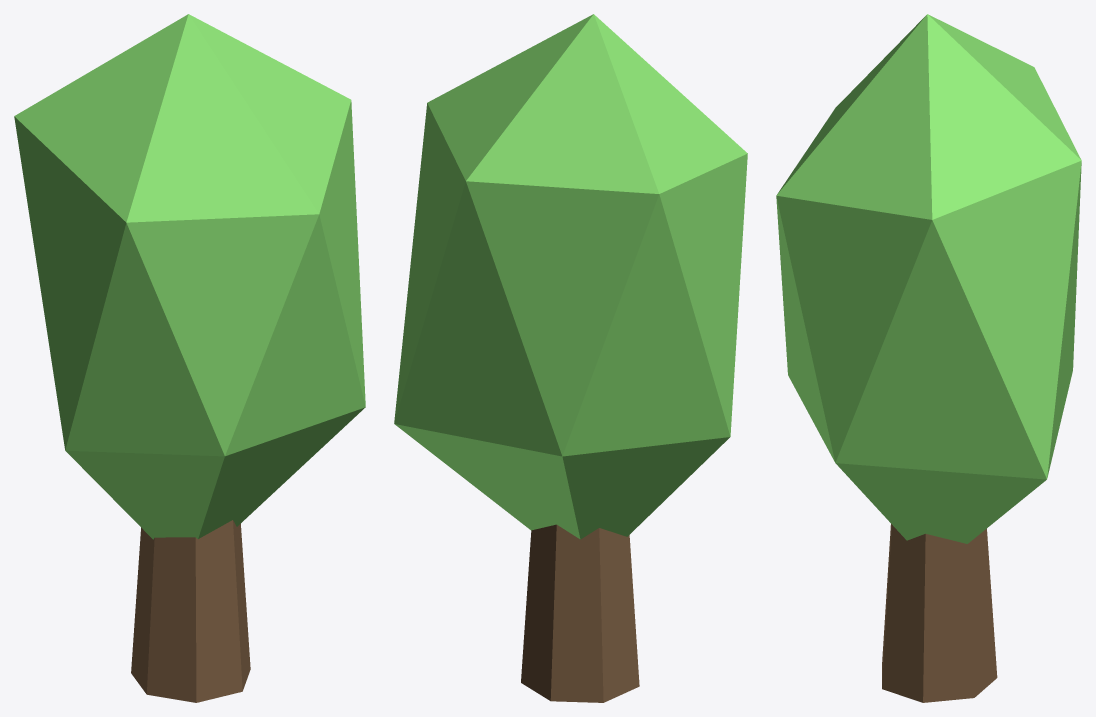
File: tree3.fbx
The picture shows the model from 3 angles, left to right: view 1: azimuth 30°, elevation 25°; view 2: azimuth 150°, elevation 25°; view 3: azimuth 270°, elevation 25°; orthographic projection.
Visible parts, largest first — view 1: tree3; view 2: tree3; view 3: tree3.
Boxes of the visible parts, <box> form: tree3: <box>14,14,365,702</box>; tree3: <box>394,14,747,702</box>; tree3: <box>776,14,1081,702</box>.
Size of the model in its own units: 203 by 438 by 184.
